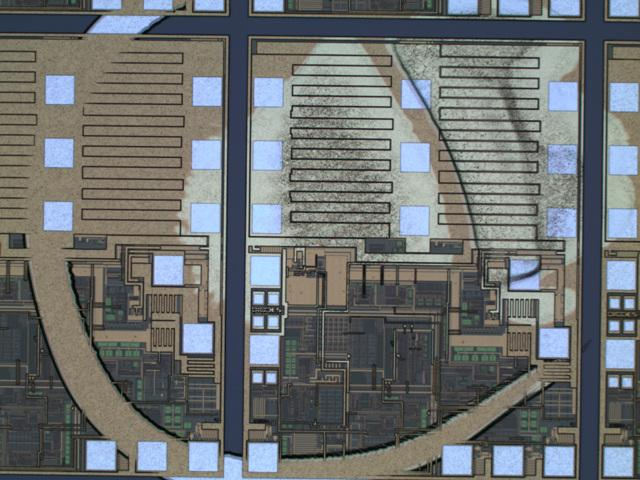COATING BAD: (17, 1, 640, 480)
